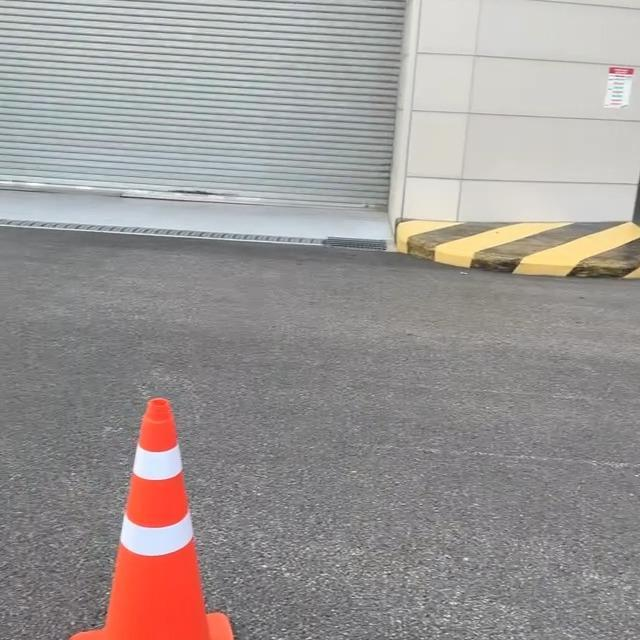fallen_object: (45, 360, 373, 640)
